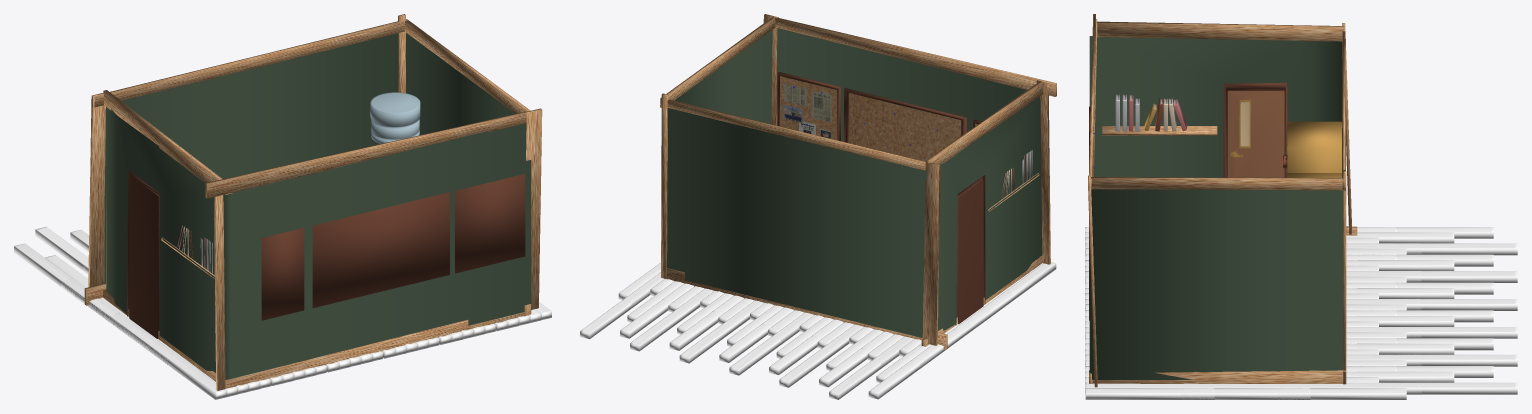
The model's file is StartingOffice.glb.
3 renders of one model, left to right at view 1: azimuth 30°, elevation 25°; view 2: azimuth 150°, elevation 25°; view 3: azimuth 270°, elevation 25°, orthographic. The views are drawn at different scales.
Parts seen in each view (by area): view 1: GreenWalls, WoodFrame, CorkFrame, Flooring, Door, WaterTank, DoorFrame; view 2: GreenWalls, Flooring, WoodFrame, corkboard, Door, CorkFrame, DoorFrame, News_2, News_1; view 3: GreenWalls, Flooring, WoodFrame, Door, SmallCabinet.001, DoorFrame, plank.
Part boxes in pixels (box(x1,y1,x2,y2)): GreenWalls: box(104, 33, 531, 379); WoodFrame: box(84, 14, 542, 390); CorkFrame: box(261, 174, 525, 320); Flooring: box(14, 226, 551, 399); Door: box(129, 176, 159, 338); WaterTank: box(370, 92, 420, 143); DoorFrame: box(127, 170, 159, 339); GreenWalls: box(667, 28, 1042, 337); Flooring: box(580, 262, 1056, 399); WoodFrame: box(660, 14, 1056, 349); corkboard: box(780, 76, 977, 161); Door: box(957, 180, 983, 324); CorkFrame: box(777, 72, 981, 142); DoorFrame: box(955, 175, 985, 325); News_2: box(811, 91, 831, 122); News_1: box(783, 83, 807, 106); GreenWalls: box(1089, 36, 1345, 379); Flooring: box(1085, 227, 1517, 399); WoodFrame: box(1088, 14, 1357, 387); Door: box(1227, 89, 1284, 177); SmallCabinet.001: box(1282, 121, 1341, 172); DoorFrame: box(1223, 83, 1287, 177); plank: box(1102, 126, 1217, 135).
Size of the model in its own units: 4.94 by 2.98 by 5.35.
Materials: 10 (9 with a texture image).
